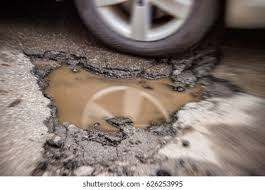potholes: (25, 44, 201, 148)
